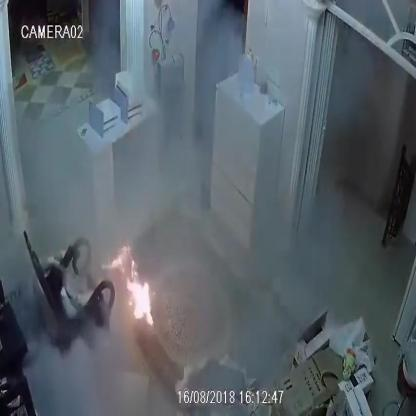fire: (126, 275, 153, 325)
